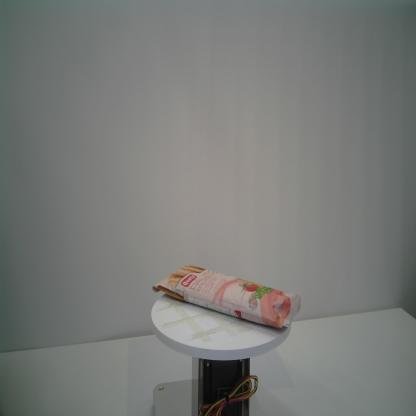Dessert: (152, 264, 302, 329)
